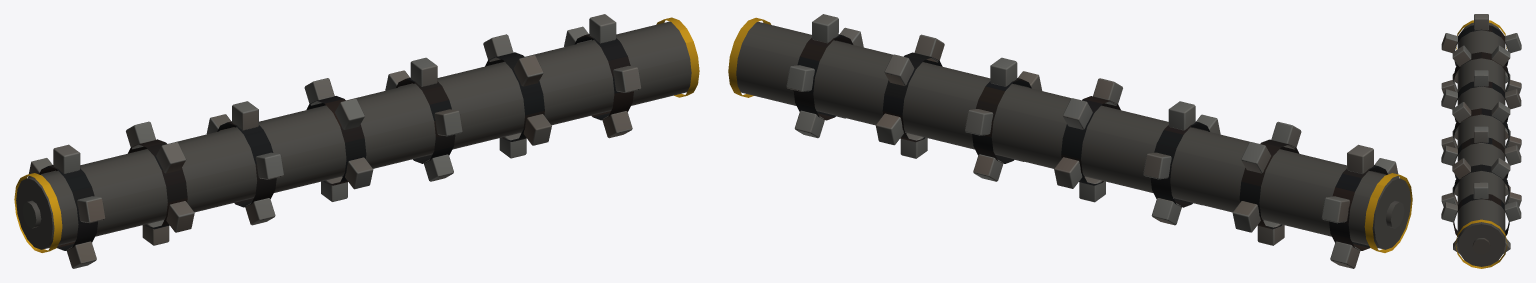
The model's file is recycler_roller.glb.
3 renders of one model, left to right at view 1: azimuth 30°, elevation 25°; view 2: azimuth 150°, elevation 25°; view 3: azimuth 270°, elevation 25°, orthographic. The views are drawn at different scales.
Parts seen in each view (by area): view 1: Roller; view 2: Roller; view 3: Roller.
Part boxes in pixels (x1,y1,x2,y2): Roller: [14, 14, 699, 268]; Roller: [728, 14, 1412, 268]; Roller: [1441, 14, 1521, 268].
Size of the model in its own units: 6.6 by 1.08 by 1.08.
